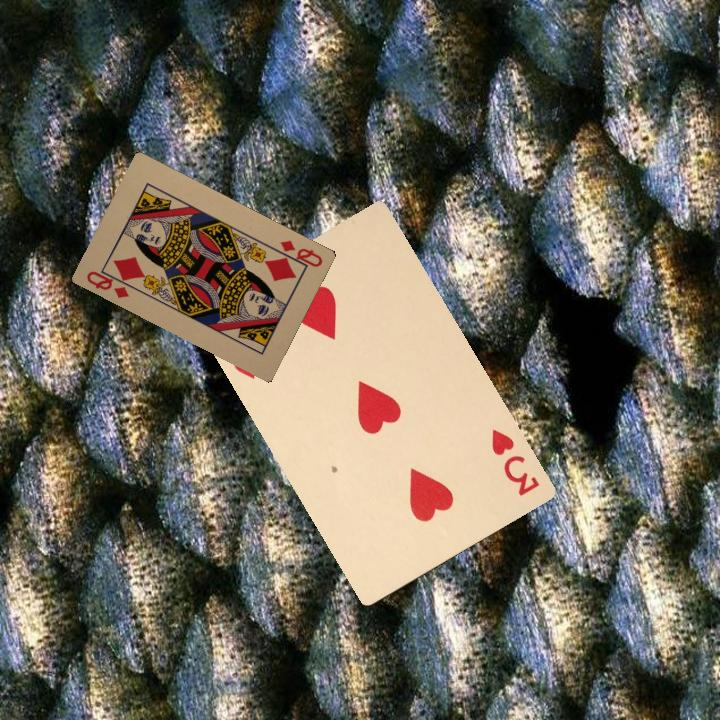3h: (487, 424, 542, 499)
Qd: (82, 264, 136, 301), (269, 236, 325, 270)
